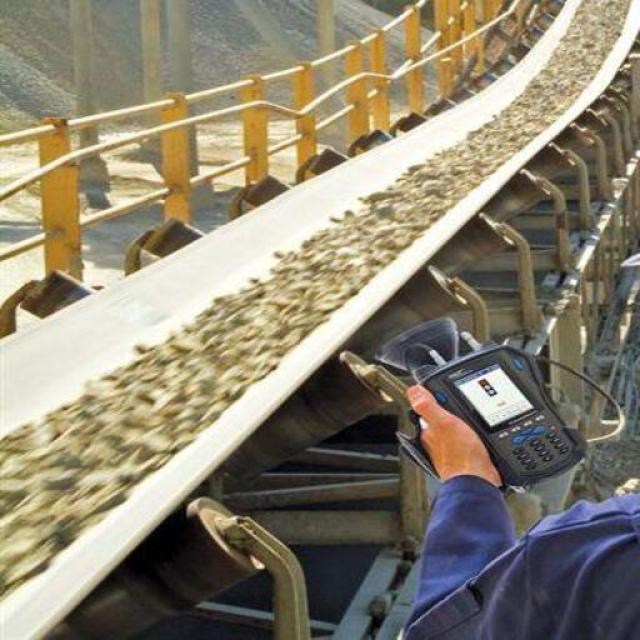conveyor: (0, 0, 640, 640)
